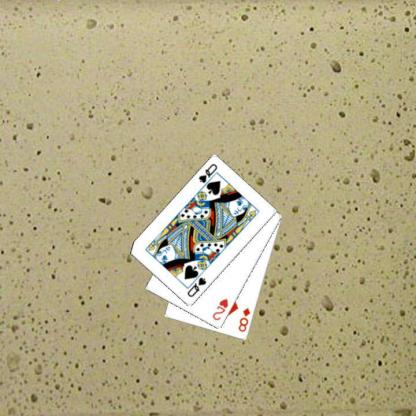2H: (210, 296, 229, 322)
8D: (236, 305, 251, 333)
QS: (184, 275, 208, 299), (196, 161, 218, 185)
